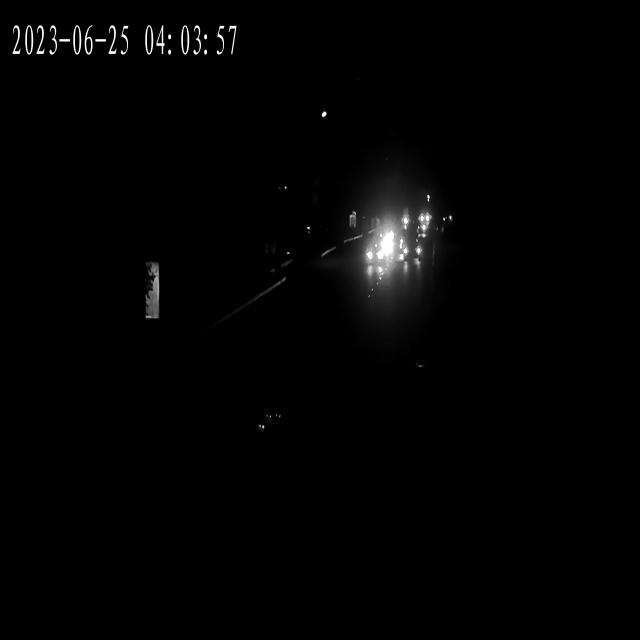Car: (363, 238, 391, 268), (362, 243, 390, 272), (395, 236, 423, 262), (377, 227, 398, 248), (416, 209, 432, 226)
